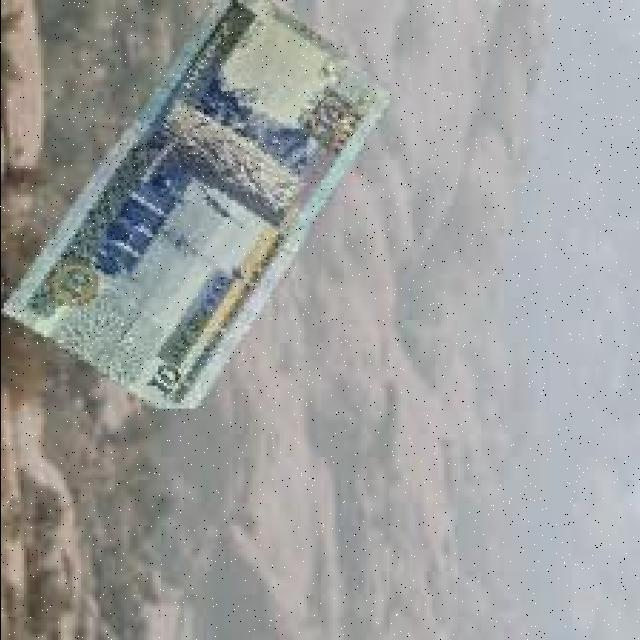10-dinar: (0, 1, 391, 407)
